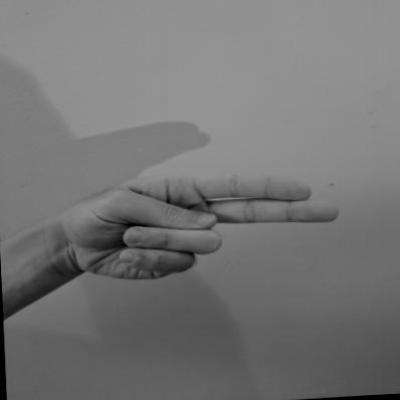hand: (70, 156, 348, 290)
